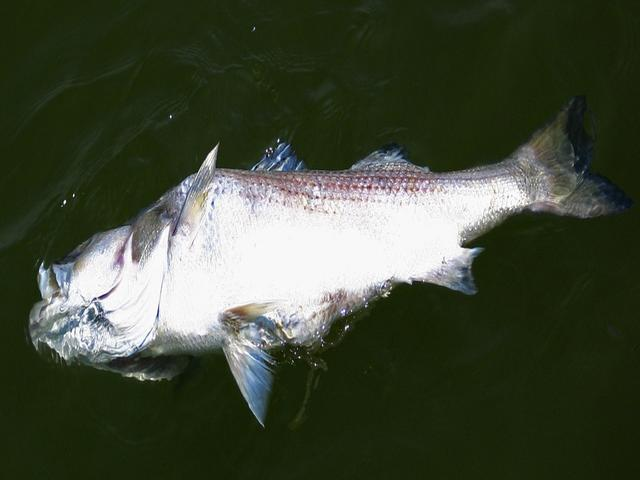fish: (30, 64, 612, 411)
